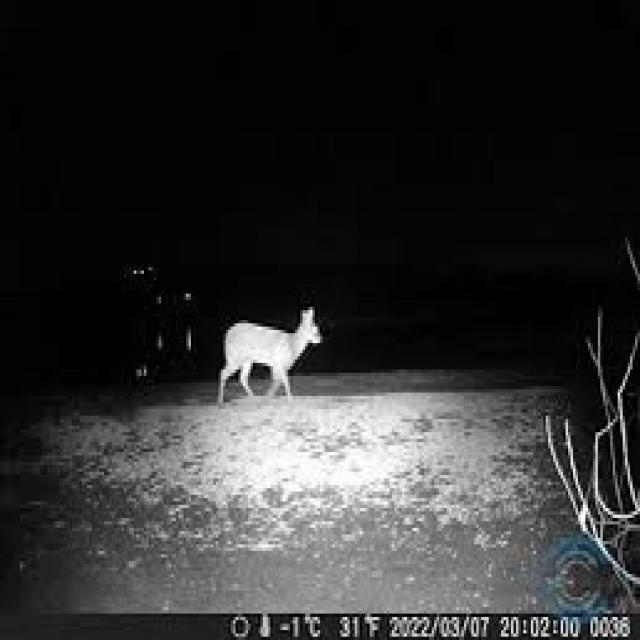elk: (174, 290, 328, 403)
